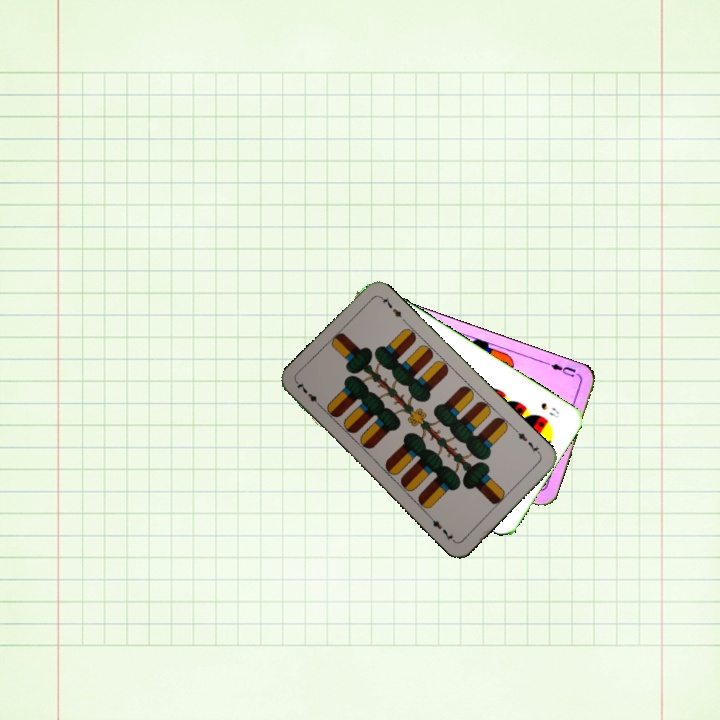E7: (293, 378, 325, 411), (511, 425, 543, 457)
EU: (543, 358, 582, 380)
S8: (537, 398, 562, 421)
